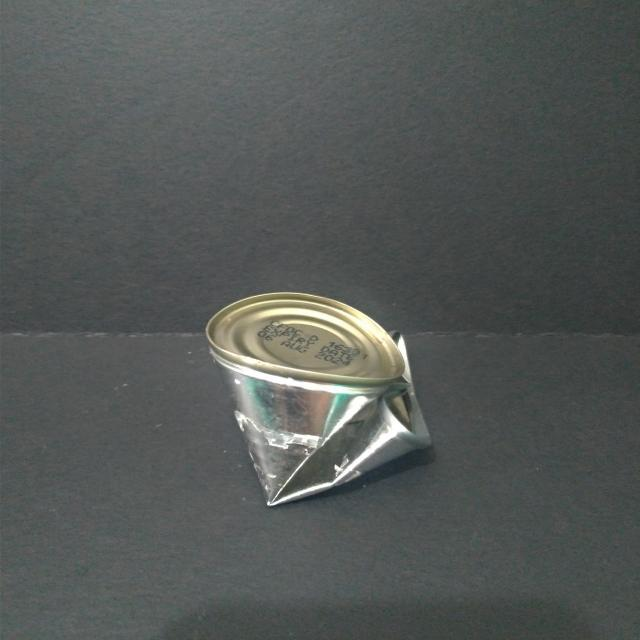metal-can: (202, 290, 433, 510)
